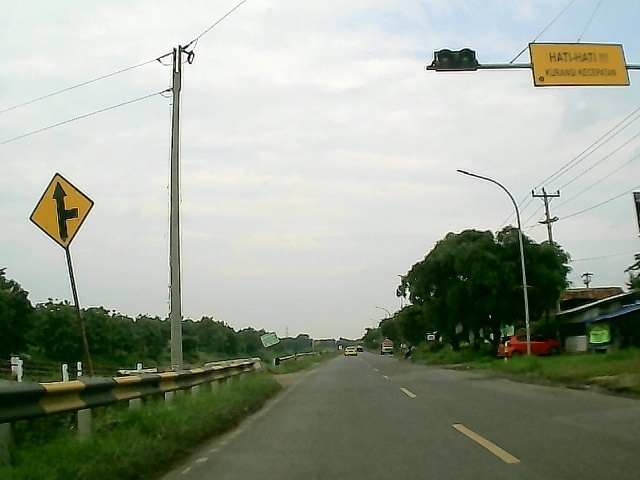Simpang kanan dengan prioritas: (21, 171, 98, 250)
